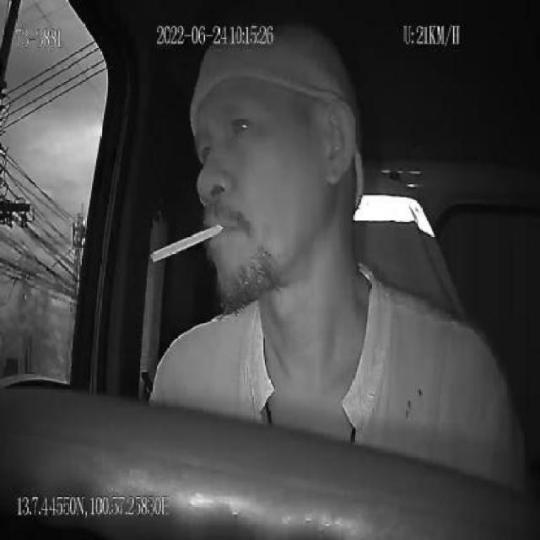smoking: (151, 222, 223, 265)
